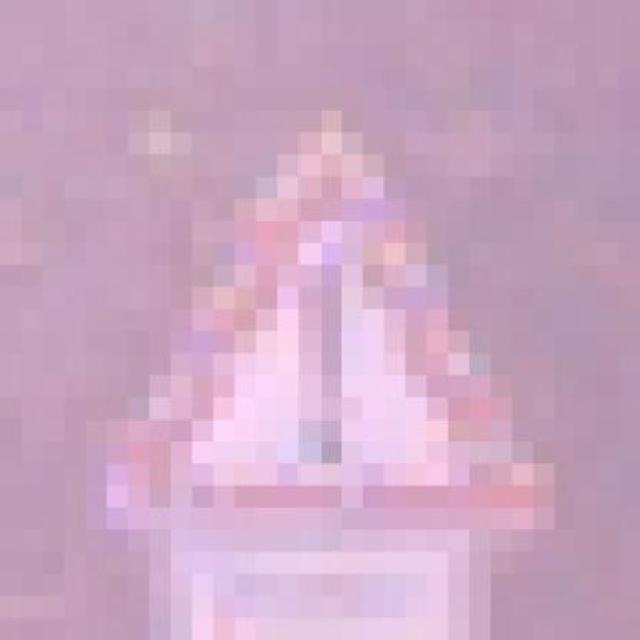Attention Please-: (85, 132, 533, 574)
